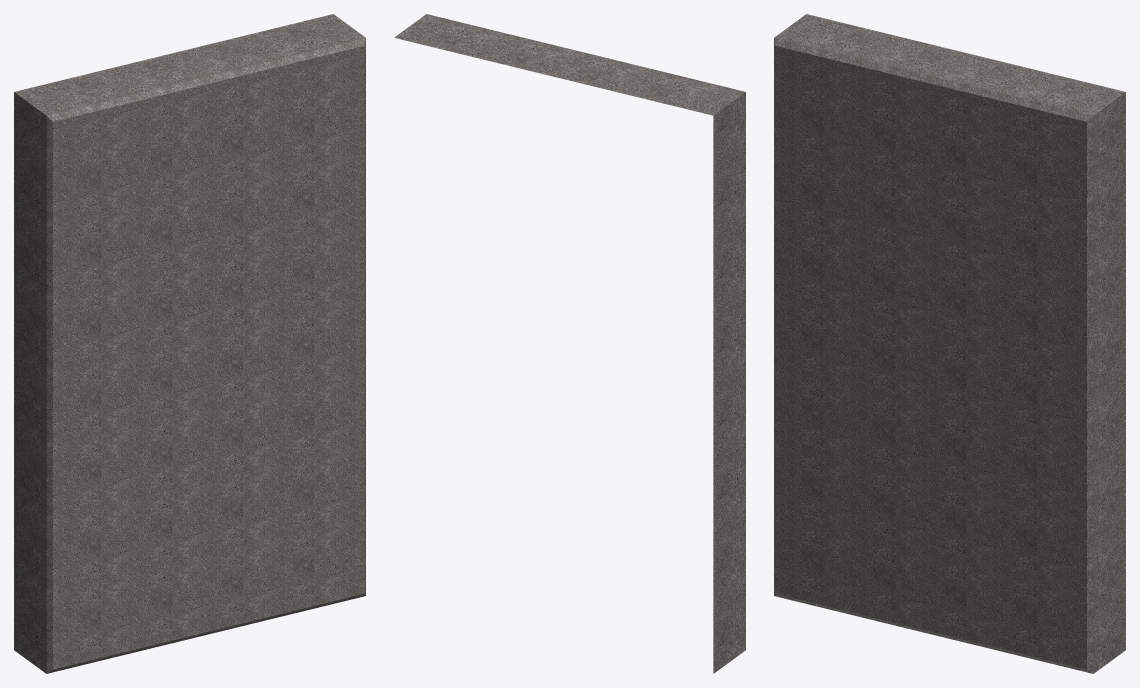
File: jc-sj-579-geode.glb
The picture shows the model from 3 angles, left to right: view 1: azimuth 30°, elevation 25°; view 2: azimuth 150°, elevation 25°; view 3: azimuth 330°, elevation 25°; orthographic projection.
Parts seen in each view (by area): view 1: Node; view 2: Node; view 3: Node.
Part boxes in pixels (x1=…): Node: x1=14, y1=14, x2=365, y2=673; Node: x1=394, y1=14, x2=745, y2=673; Node: x1=774, y1=14, x2=1125, y2=673.
Size of the model in its own units: 4.51 by 7.54 by 0.8578.
1 material, 1 textured.
